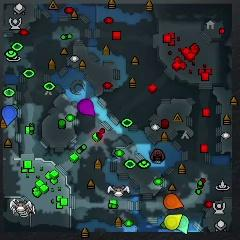p1: (3, 105, 19, 125)
p2: (177, 215, 189, 234)
p3: (79, 98, 95, 116)
p4: (165, 214, 181, 231)
p5: (164, 194, 184, 209)
